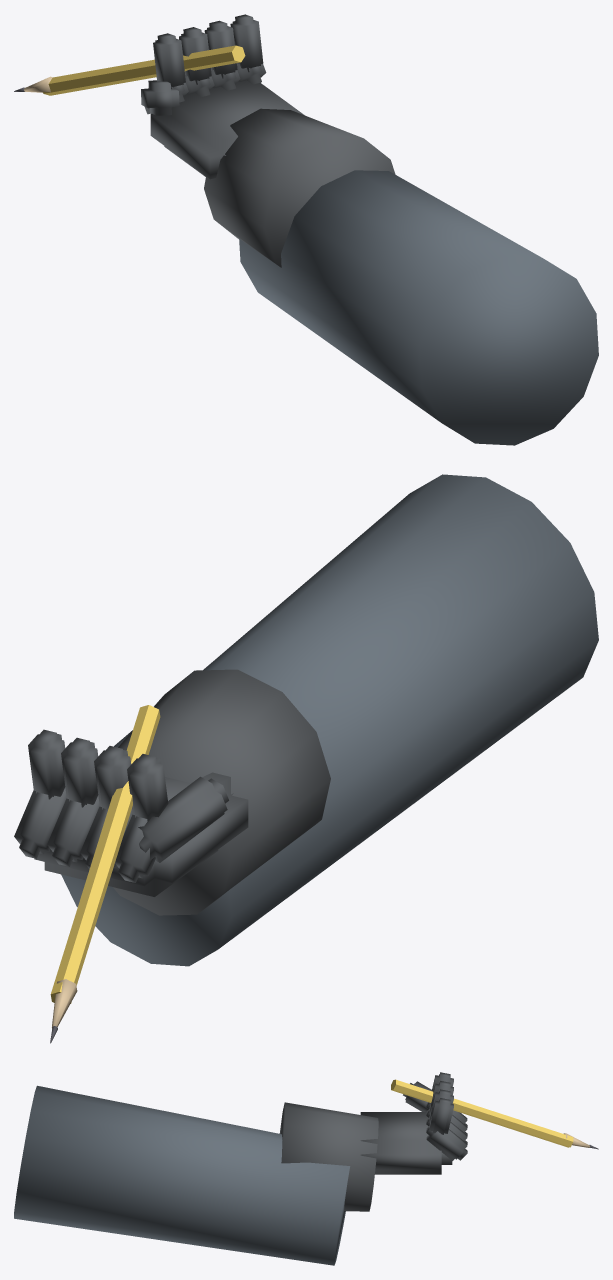
Rendered from vm_pencil_hand.glb.
The picture shows the model from 3 angles, top to bottom: view 1: azimuth 30°, elevation 25°; view 2: azimuth 150°, elevation 25°; view 3: azimuth 270°, elevation 25°; orthographic projection. The views are drawn at different scales.
Parts seen in each view (by area): view 1: CoatSleeve, GloveWrist, Palm, PencilBody, FingerDist_0, FingerDist_3, Thumb, FingerDist_1, FingerDist_2; view 2: CoatSleeve, GloveWrist, PencilBody, Palm, Thumb, FingerProx_2, FingerProx_3, FingerDist_0, FingerDist_3, FingerDist_2, FingerProx_0, FingerDist_1 (+1 smaller); view 3: CoatSleeve, GloveWrist, Palm, PencilBody, FingerProx_3, FingerDist_3, Thumb.
Boxes of the visible parts, x1,y1,x2,y2 form: CoatSleeve: (239,170,598,445); GloveWrist: (204,108,395,267); Palm: (150,80,304,179); PencilBody: (43,45,245,95); FingerDist_0: (153,33,185,88); FingerDist_3: (230,14,263,72); Thumb: (141,80,179,115); FingerDist_1: (179,27,211,84); FingerDist_2: (204,20,237,78); CoatSleeve: (61,474,598,966); GloveWrist: (113,669,330,915); PencilBody: (50,705,160,1003); Palm: (34,772,248,896); Thumb: (138,776,228,862); FingerProx_2: (47,795,99,866); FingerProx_3: (14,787,66,858); FingerDist_0: (127,754,168,821); FingerDist_3: (28,729,65,799); FingerDist_2: (61,737,98,807); FingerProx_0: (115,814,155,882); FingerDist_1: (94,746,131,809); CoatSleeve: (14,1085,350,1265); GloveWrist: (279,1102,378,1211); Palm: (360,1112,452,1174); PencilBody: (391,1079,573,1147); FingerProx_3: (426,1127,467,1160); FingerDist_3: (429,1098,453,1134); Thumb: (403,1081,431,1111).
Bounding box in the file's own units: 0.1163 × 0.136 × 0.4333.
